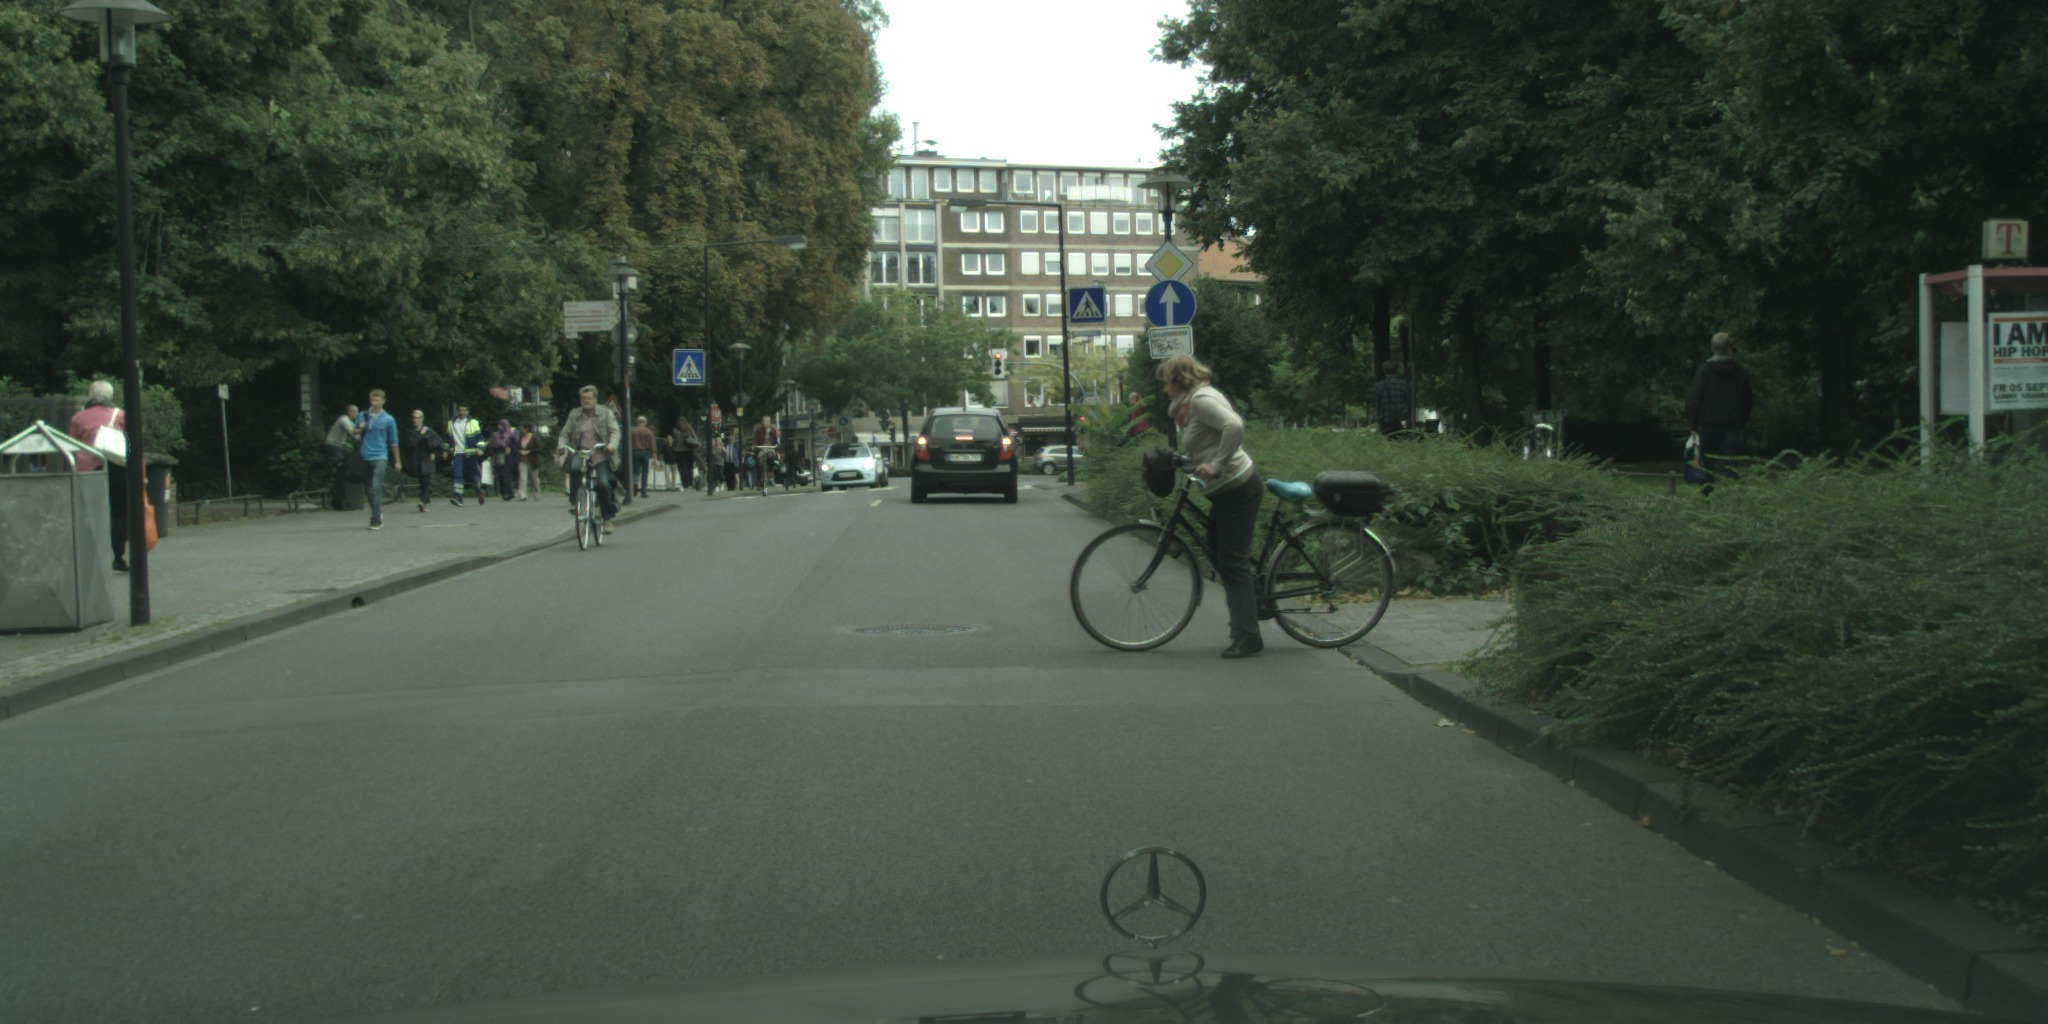bicycle: (1068, 447, 1398, 652), (300, 449, 404, 505), (563, 444, 610, 551), (756, 446, 776, 498)
car: (907, 408, 1024, 504), (816, 442, 881, 492), (1033, 445, 1103, 476), (769, 463, 814, 486), (867, 446, 889, 488), (873, 461, 890, 487)
person: (1154, 354, 1264, 658), (68, 380, 157, 574), (1684, 332, 1753, 509), (340, 388, 402, 530), (442, 400, 487, 507), (1373, 360, 1426, 448), (403, 409, 445, 514), (487, 419, 520, 502), (630, 416, 658, 498), (672, 416, 700, 493), (515, 422, 542, 501), (1128, 393, 1151, 455), (658, 436, 680, 492), (722, 435, 741, 491), (710, 438, 727, 492), (784, 444, 804, 488), (507, 427, 523, 446)
rider: (1154, 354, 1264, 658), (553, 385, 622, 534), (324, 405, 371, 468), (750, 416, 779, 487)
